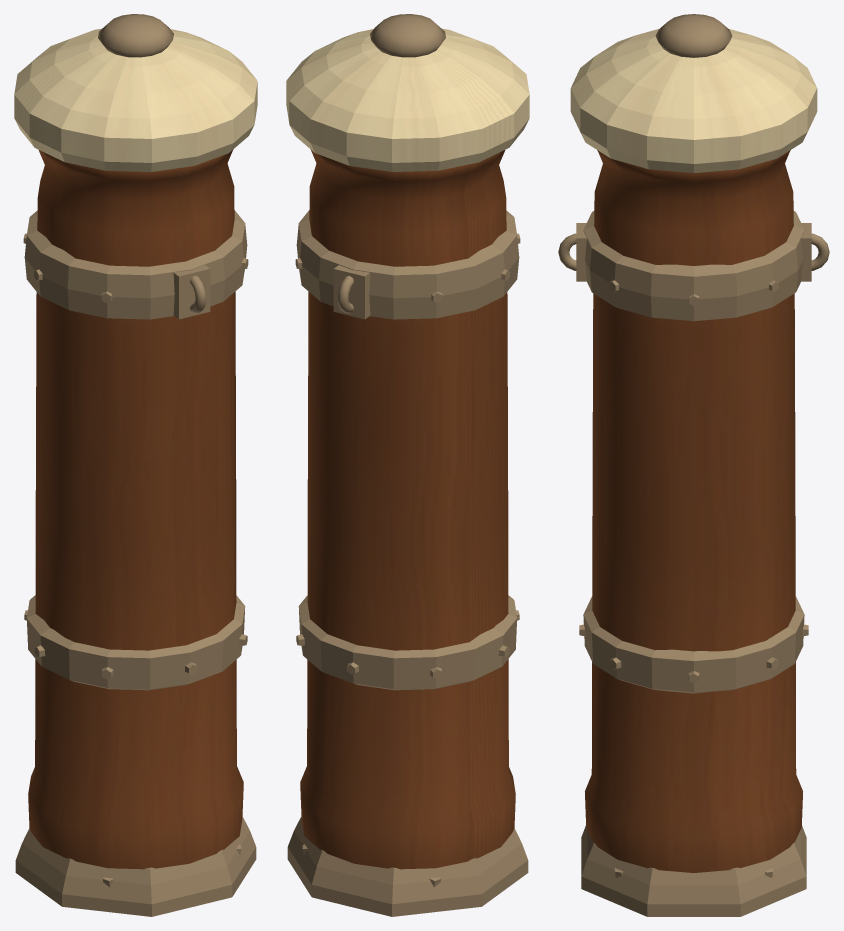
Rendered from dock-post-VDr2S4W0.glb.
3 views of the same model, side by side, from view 1: azimuth 30°, elevation 25°; view 2: azimuth 150°, elevation 25°; view 3: azimuth 270°, elevation 25° (orthographic).
Parts seen in each view (by area): view 1: dock-post; view 2: dock-post; view 3: dock-post.
Part boxes in pixels (bbox=[...]): dock-post: bbox=[14, 14, 257, 916]; dock-post: bbox=[286, 14, 529, 916]; dock-post: bbox=[558, 14, 829, 916].
Bounding box in the file's own units: 0.352 × 1.34 × 0.388.
3 materials, 2 textured.
